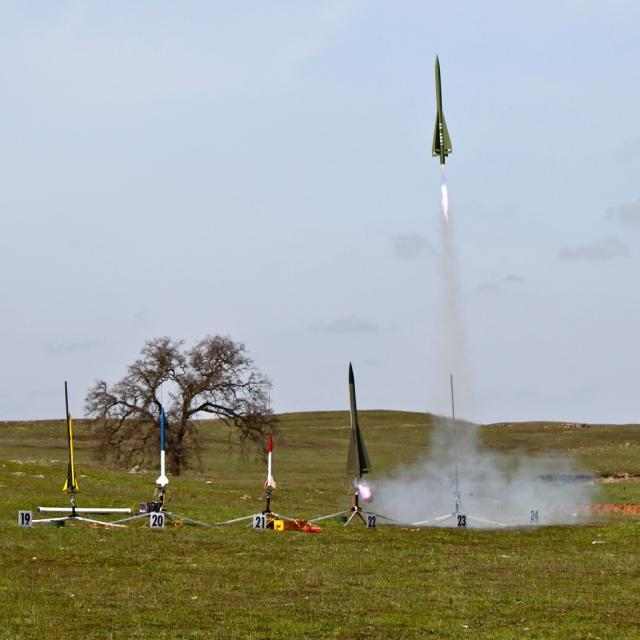Missile: (346, 366, 373, 481), (430, 53, 453, 168), (64, 415, 79, 491), (157, 409, 168, 488), (265, 437, 274, 490)
